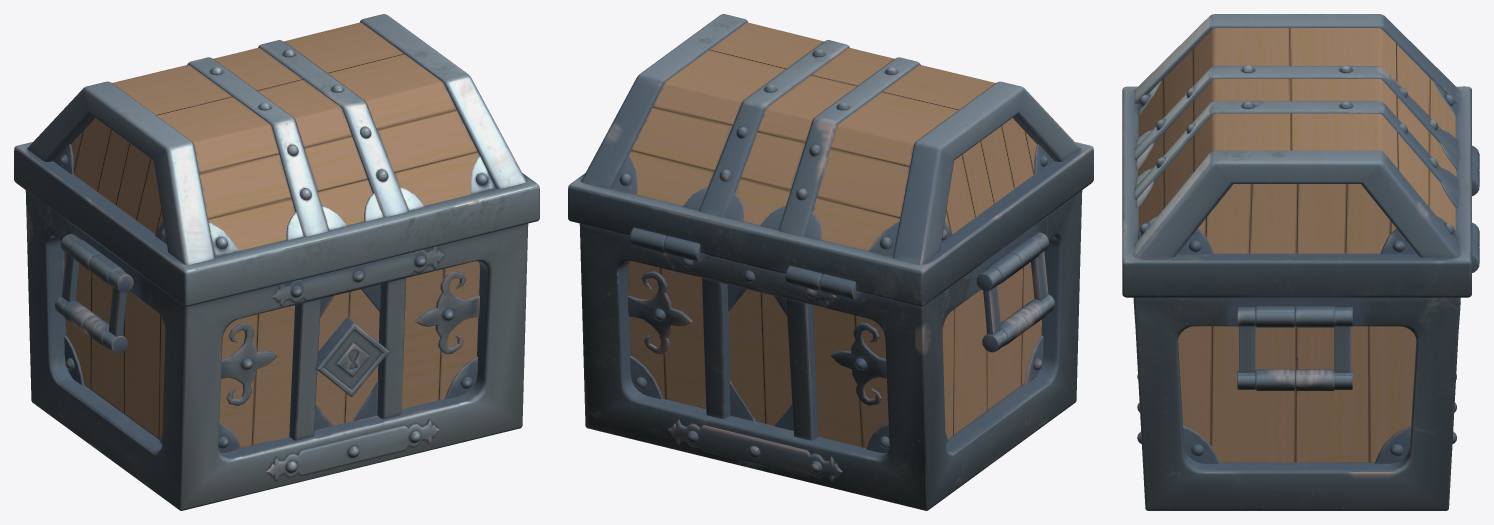
File: chest.obj
3 renders of one model, left to right at view 1: azimuth 30°, elevation 25°; view 2: azimuth 150°, elevation 25°; view 3: azimuth 270°, elevation 25°, orthographic.
Parts seen in each view (by area): view 1: Chest__0; view 2: Chest__0; view 3: Chest__0.
Part boxes in pixels (left/top/right/bottom): Chest__0: left=14, top=14, right=539, bottom=510; Chest__0: left=568, top=14, right=1093, bottom=510; Chest__0: left=1122, top=14, right=1479, bottom=510.
Size of the model in its own units: 4.49 by 3.72 by 3.5.
Materials: 2 (1 with a texture image).
